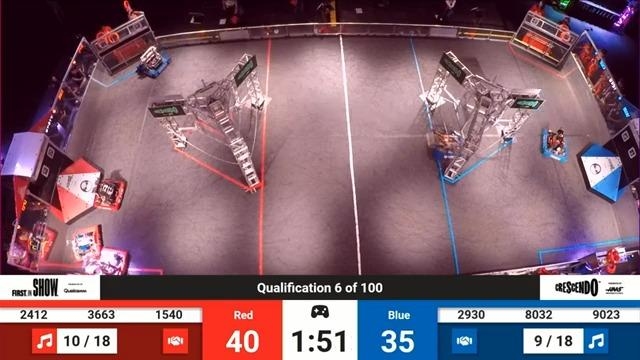robot: (424, 124, 474, 168), (84, 163, 123, 217), (534, 122, 572, 166), (88, 240, 136, 272), (67, 224, 103, 257), (138, 46, 171, 81)
